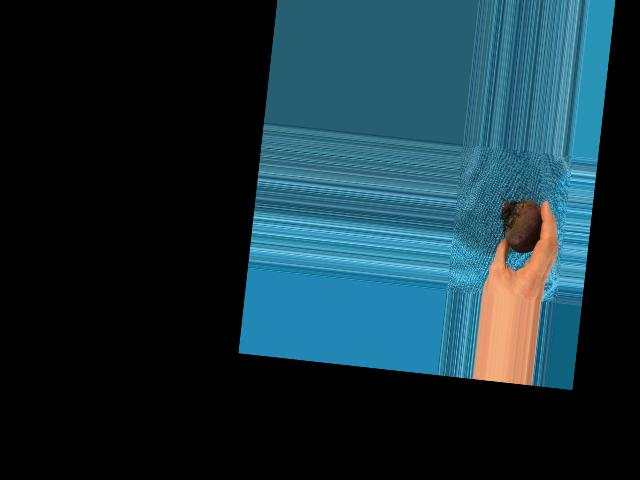beet: (495, 196, 543, 254)
